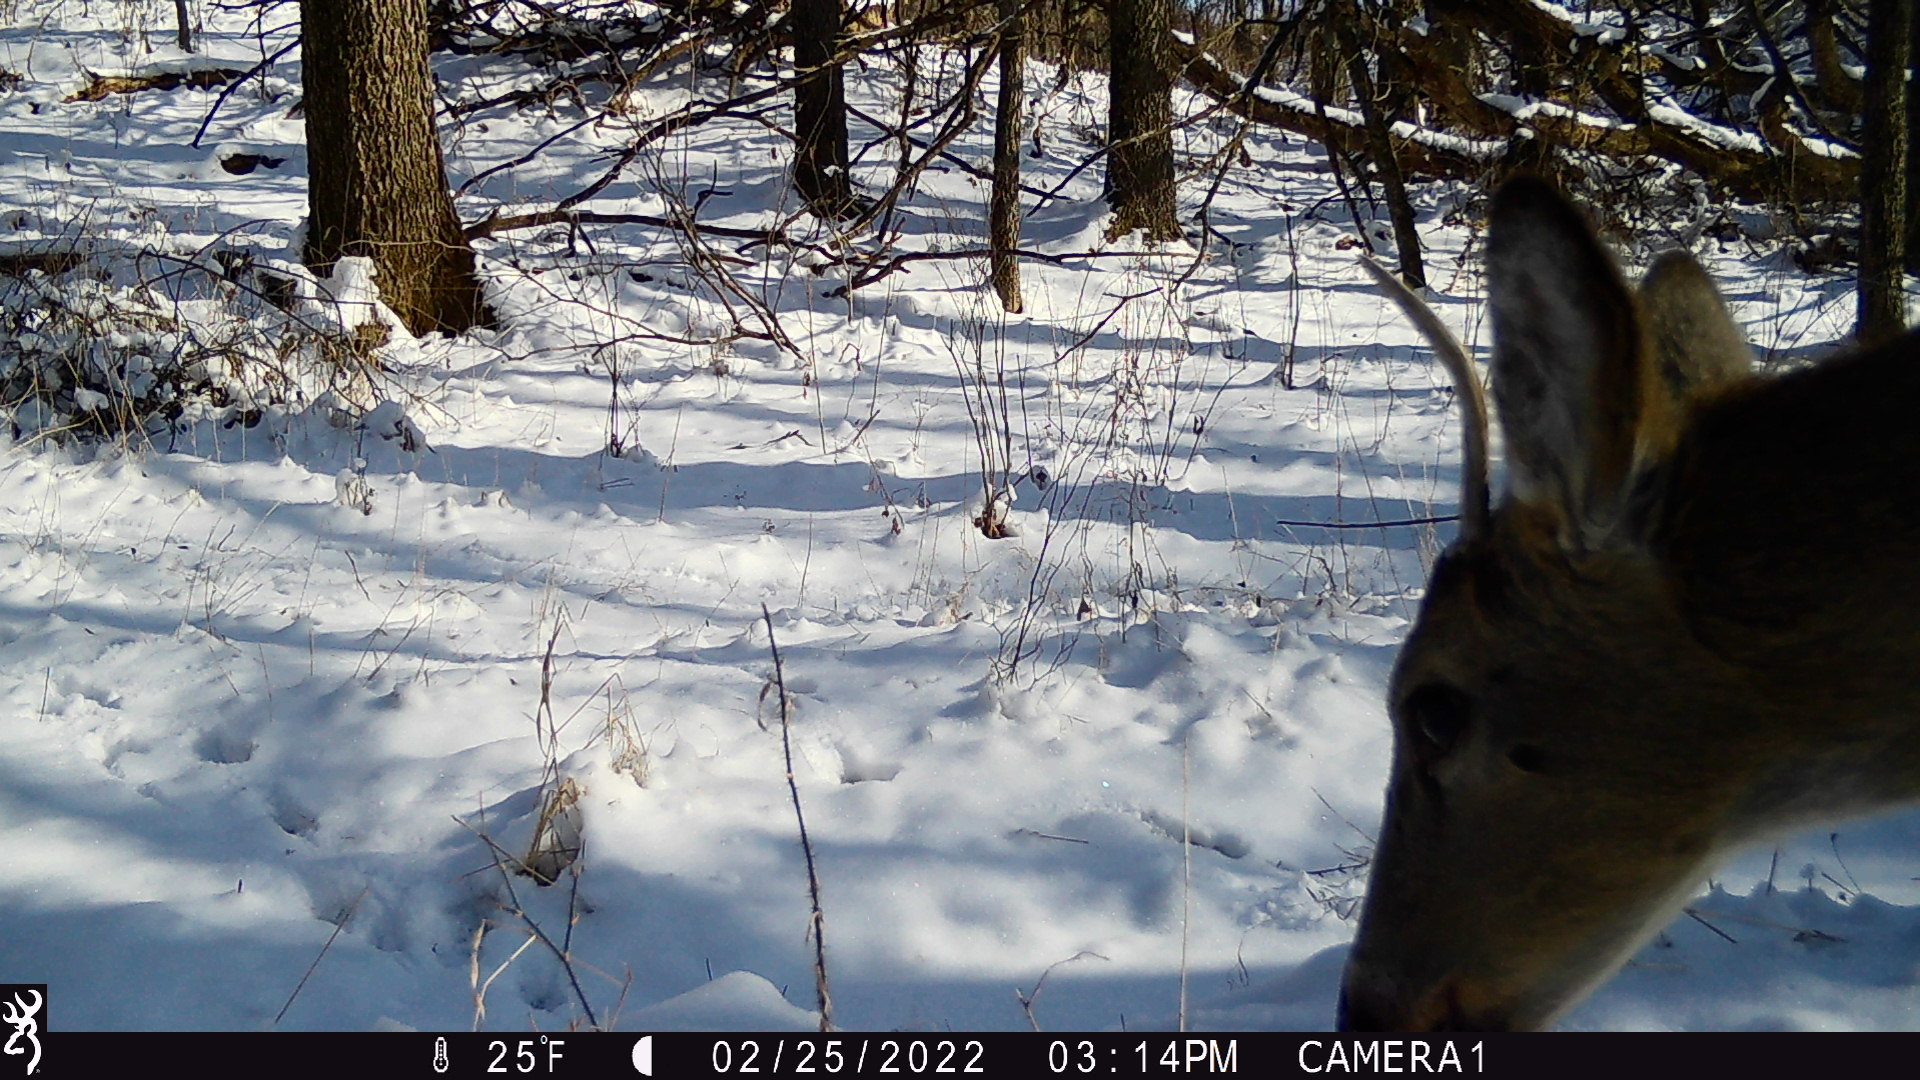DeerBuck: (1333, 164, 1917, 1033)
DeerBuckHead: (1333, 164, 1755, 1033)
